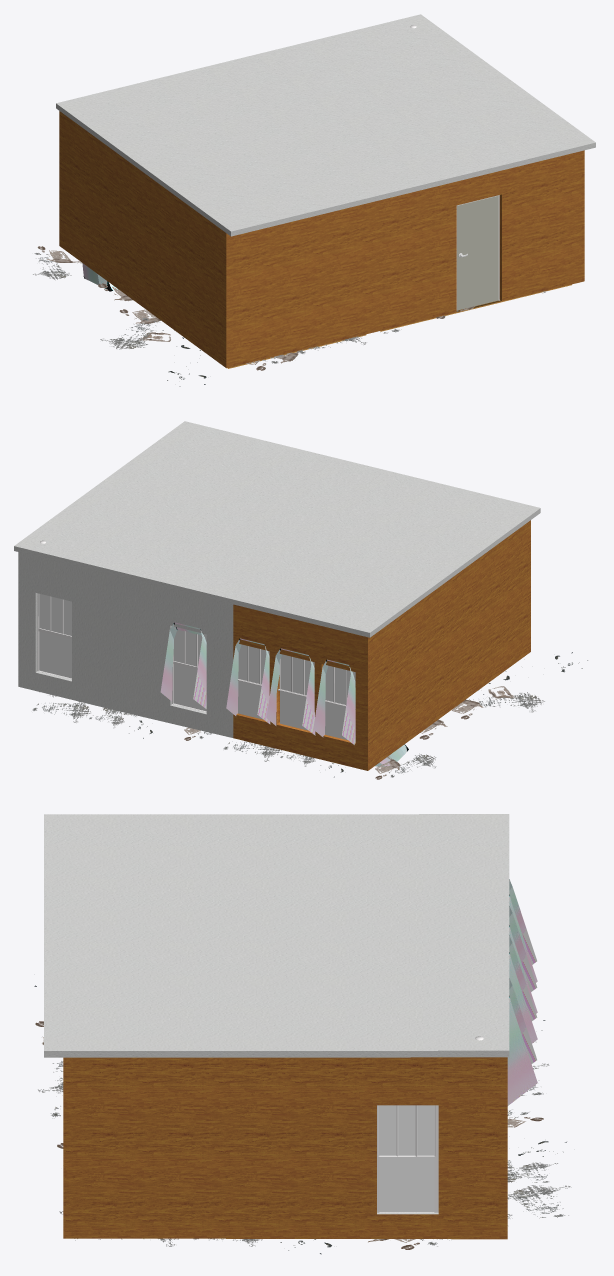
The model's file is FloorPlan224_physics.fbx.
The picture shows the model from 3 angles, top to bottom: view 1: azimuth 30°, elevation 25°; view 2: azimuth 150°, elevation 25°; view 3: azimuth 270°, elevation 25°; orthographic projection. The views are drawn at different scales.
Parts seen in each view (by area): view 1: FP224:Cube.1148, FP224:polySurface38, FP224:Door.012, FP224:Decals.005, FP224:Decals.007, FP224:polySurface1; view 2: FP224:Cube.1148, FP224:polySurface38, FP224:Baseboard.018, FP224:polySurface33, FP224:polySurface14, FP224:polySurface10, FP224:polySurface12, FP224:polySurface16, FP224:Decals.005, FP224:Decals.007, FP224:Decals.002, FP224:polySurface25 (+1 smaller); view 3: FP224:Cube.1148, FP224:polySurface38, FP224:polySurface8, FP224:Baseboard.018, FP224:Decals.002, FP224:polySurface32.
Part boxes in pixels (left/top/right/bottom): FP224:Cube.1148: left=56, top=14, right=595, bottom=236; FP224:polySurface38: left=59, top=111, right=584, bottom=368; FP224:Door.012: left=457, top=195, right=498, bottom=310; FP224:Decals.005: left=98, top=283, right=284, bottom=386; FP224:Decals.007: left=33, top=246, right=81, bottom=280; FP224:polySurface1: left=227, top=284, right=571, bottom=368; FP224:Cube.1148: left=14, top=421, right=540, bottom=637; FP224:polySurface38: left=18, top=520, right=530, bottom=770; FP224:Baseboard.018: left=160, top=622, right=408, bottom=766; FP224:polySurface33: left=39, top=593, right=71, bottom=678; FP224:polySurface14: left=280, top=654, right=314, bottom=730; FP224:polySurface10: left=173, top=629, right=206, bottom=711; FP224:polySurface12: left=238, top=644, right=269, bottom=719; FP224:polySurface16: left=325, top=665, right=355, bottom=740; FP224:Decals.005: left=419, top=652, right=587, bottom=739; FP224:Decals.007: left=223, top=741, right=436, bottom=779; FP224:Decals.002: left=32, top=694, right=211, bottom=740; FP224:polySurface25: left=37, top=593, right=71, bottom=679; FP224:Cube.1148: left=44, top=814, right=509, bottom=1057; FP224:polySurface38: left=63, top=1057, right=507, bottom=1239; FP224:polySurface8: left=379, top=1105, right=434, bottom=1211; FP224:Baseboard.018: left=507, top=879, right=537, bottom=1105; FP224:Decals.002: left=368, top=1109, right=571, bottom=1242; FP224:polySurface32: left=377, top=1105, right=438, bottom=1212.
Bounding box in the file's own units: 944 × 312 × 767.
